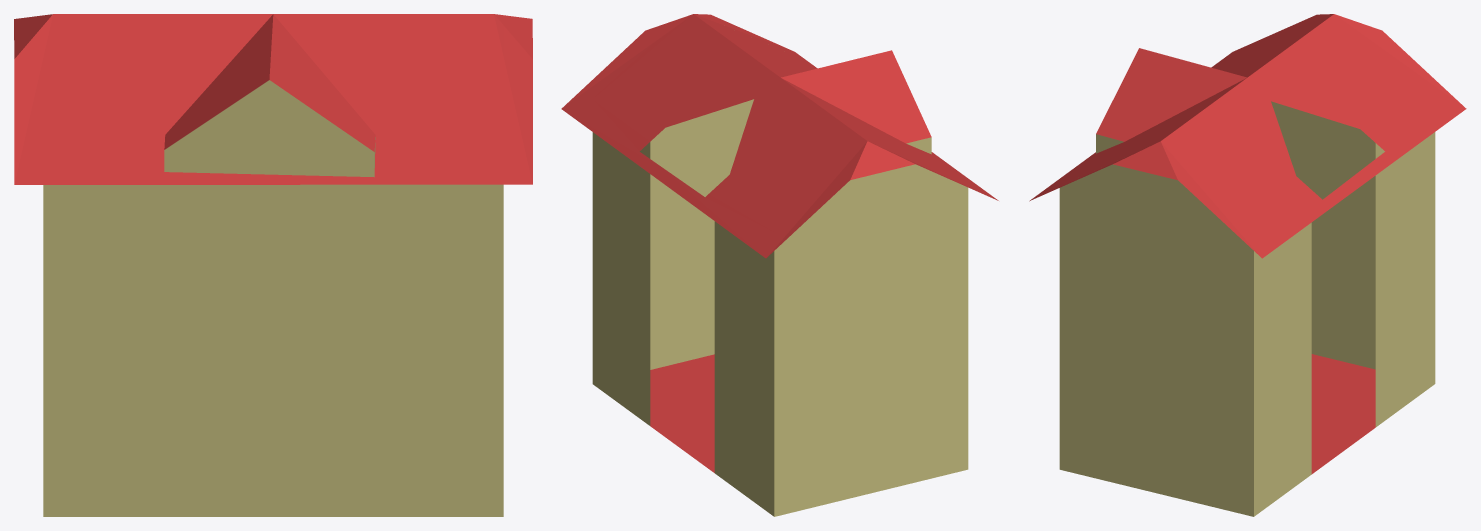
3 views of the same model, side by side, from view 1: azimuth 30°, elevation 25°; view 2: azimuth 150°, elevation 25°; view 3: azimuth 270°, elevation 25° (orthographic). The views are drawn at different scales.
Visible parts, largest first — view 1: group_7, group_3, group_5, group_6, group_4; view 2: group_7, group_3, group_4, group_8, group_6; view 3: group_7, group_3, group_4, group_8, group_6.
Part boxes in pixels (x1=…): group_7: x1=43, y1=184, x2=503, y2=516; group_3: x1=14, y1=14, x2=532, y2=184; group_5: x1=164, y1=80, x2=375, y2=177; group_6: x1=14, y1=61, x2=532, y2=184; group_4: x1=164, y1=14, x2=375, y2=151; group_7: x1=592, y1=99, x2=968, y2=516; group_3: x1=561, y1=14, x2=996, y2=258; group_4: x1=781, y1=50, x2=931, y2=143; group_8: x1=650, y1=354, x2=714, y2=472; group_6: x1=565, y1=32, x2=998, y2=257; group_7: x1=1059, y1=101, x2=1435, y2=516; group_3: x1=1030, y1=14, x2=1466, y2=258; group_4: x1=1096, y1=48, x2=1246, y2=141; group_8: x1=1311, y1=354, x2=1375, y2=474; group_6: x1=1030, y1=31, x2=1465, y2=257.
Size of the model in its own units: 21.3 by 19.08 by 16.86.
